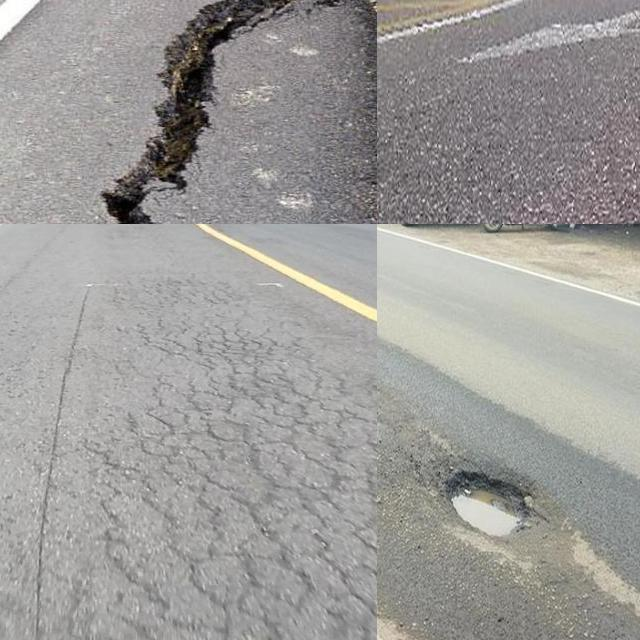Lubang: (436, 472, 537, 532)
Pinggir: (86, 0, 377, 224)
Retak Buaya: (95, 286, 377, 640)
